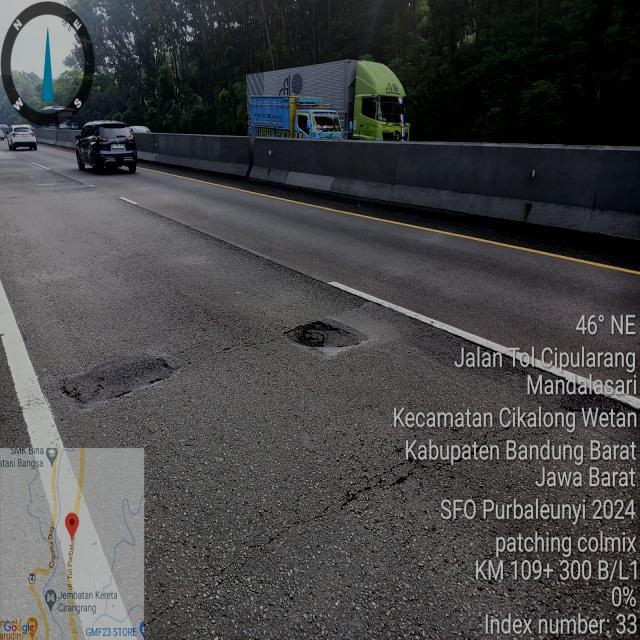Buraco: (278, 317, 358, 351)
